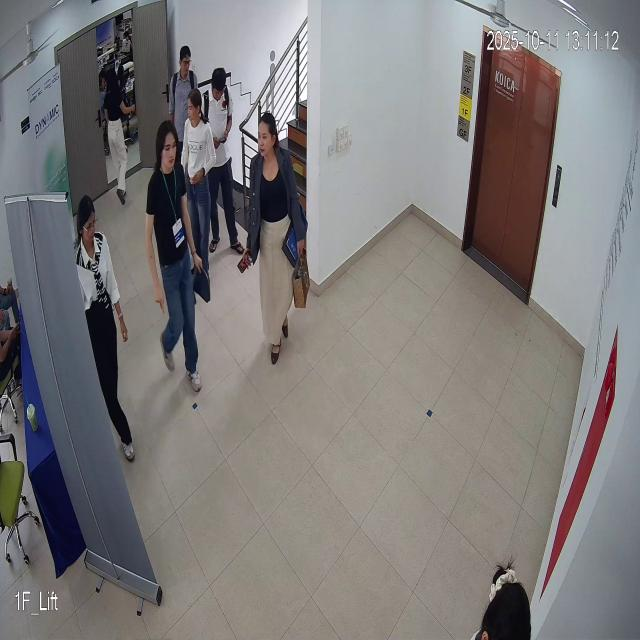face: (155, 115, 185, 183), (255, 104, 281, 170), (75, 190, 99, 247)
